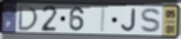2: (40, 4, 59, 33)
6: (68, 6, 85, 33)
D: (17, 4, 40, 32)
I: (99, 6, 107, 34)
J: (120, 8, 137, 34)
S: (139, 7, 164, 35)
